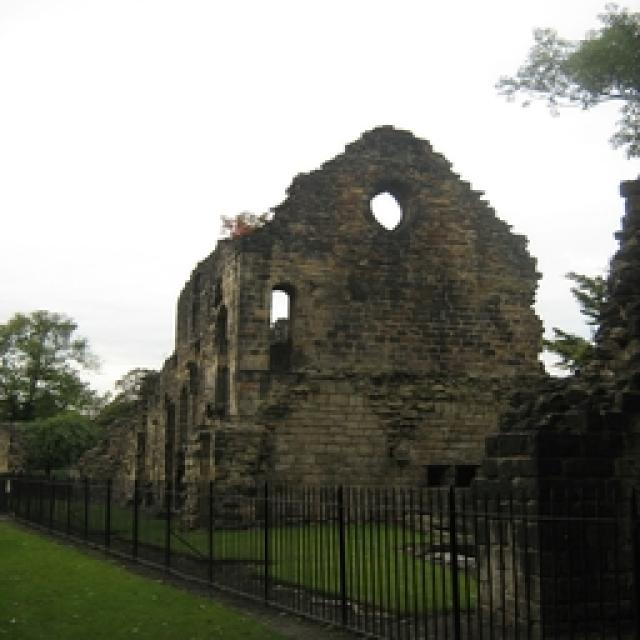Abbey: (91, 119, 559, 534)
